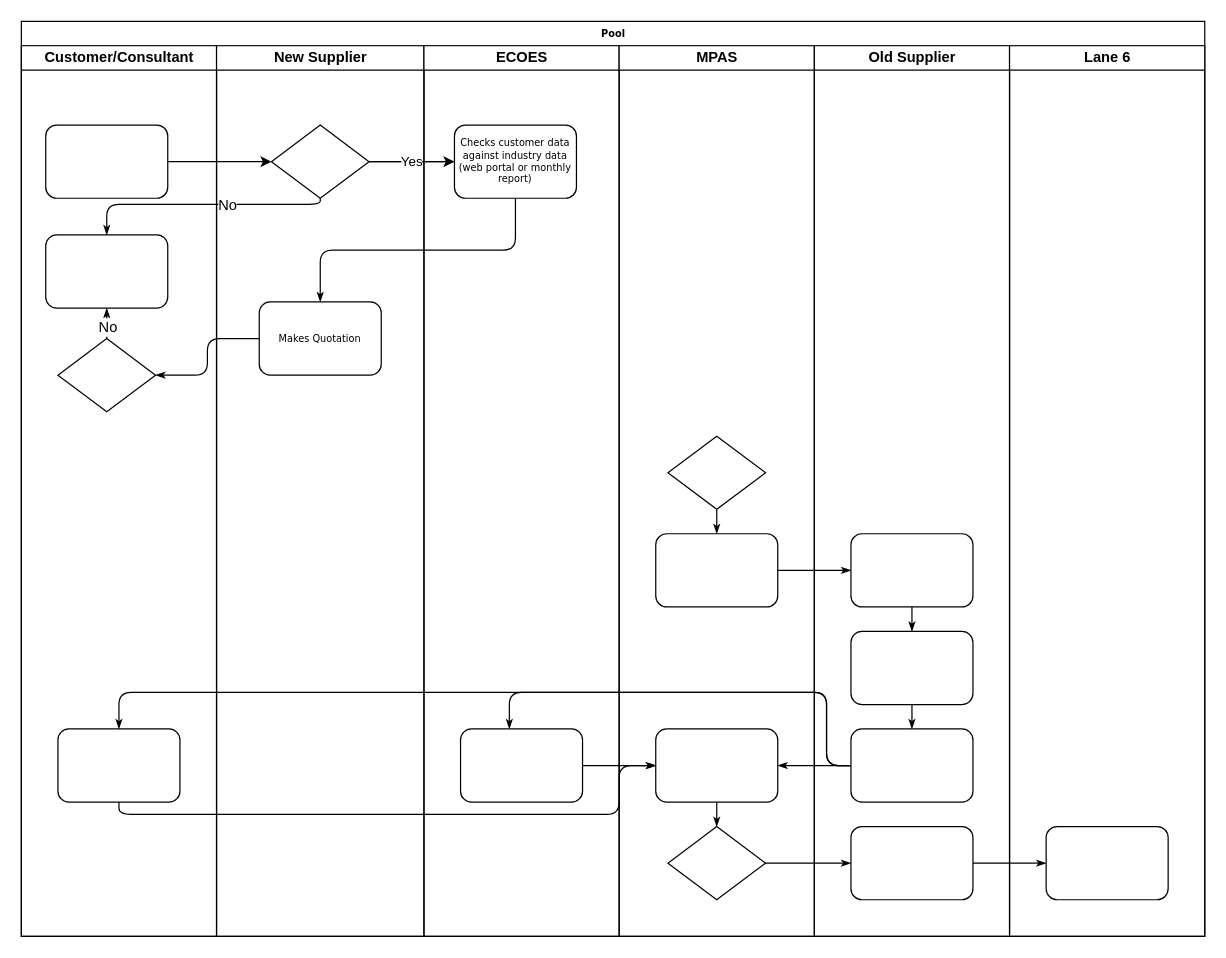
Image size: 1226x958. Some labels were removed from this diagram. Each missing label, with the centre of its shape:
"Accepts Quote?" goes at point (106, 374).
"Process ends" goes at point (106, 271).
"Requests Quotation" goes at point (106, 161).
"Wants business?" goes at point (319, 161).
